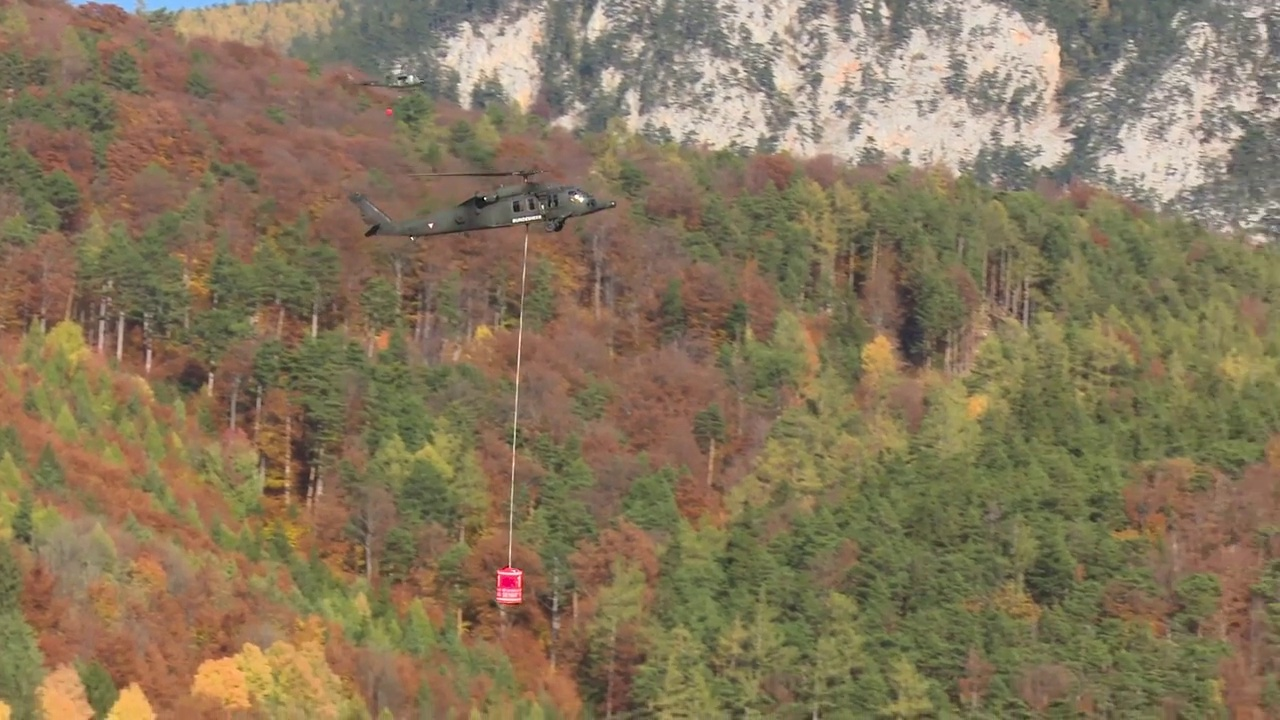heli: (346, 166, 617, 242), (348, 63, 426, 90)
